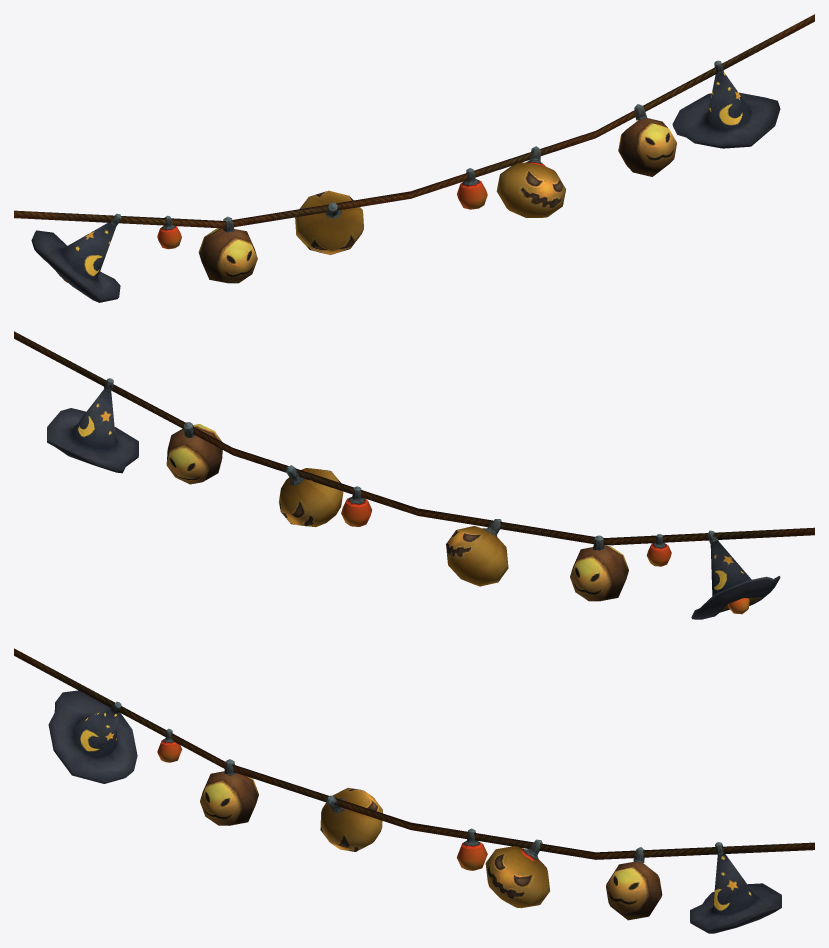
File: Halloween_lighting02.FBX
3 views of the same model, one above another, from view 1: azimuth 30°, elevation 25°; view 2: azimuth 150°, elevation 25°; view 3: azimuth 330°, elevation 25° (orthographic).
Visible parts, largest first — view 1: Halloween_lighting02; view 2: Halloween_lighting02; view 3: Halloween_lighting02.
Boxes of the visible parts, bbox=[...] form: Halloween_lighting02: bbox=[14, 14, 814, 302]; Halloween_lighting02: bbox=[14, 331, 814, 619]; Halloween_lighting02: bbox=[14, 648, 814, 933].
Bounding box in the file's own units: 1761 × 269 × 204.
